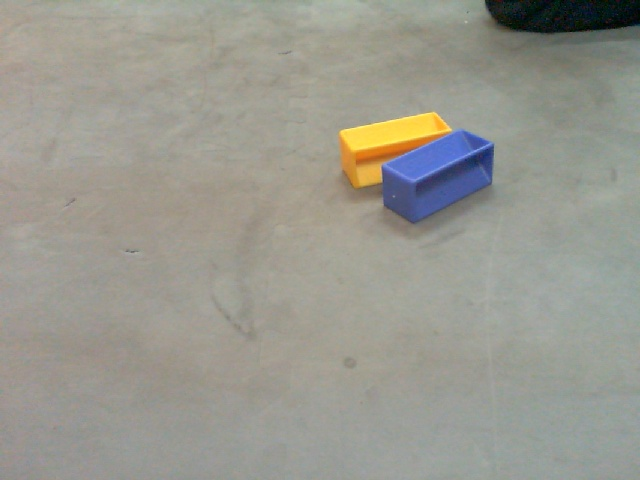BlueSample: (380, 129, 498, 222)
YellowSample: (331, 109, 454, 188)
